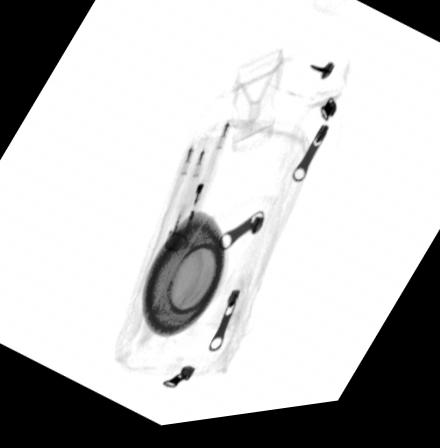Lighter: (163, 142, 223, 256)
